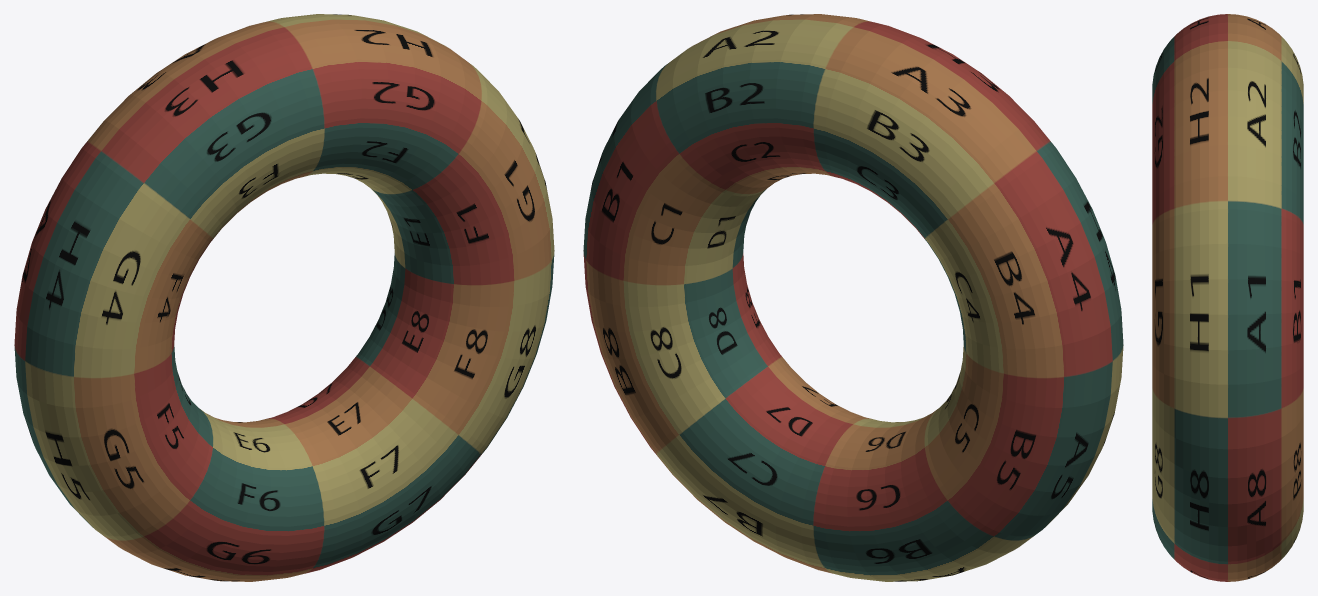
The model's file is texture_torus_R24_r28.glb.
3 views of the same model, side by side, from view 1: azimuth 30°, elevation 25°; view 2: azimuth 150°, elevation 25°; view 3: azimuth 270°, elevation 25° (orthographic). The views are drawn at different scales.
Visible parts, largest first — view 1: world; view 2: world; view 3: world.
Part boxes in pixels (x1,y1,x2,y2): world: (14,14,554,581); world: (583,14,1123,581); world: (1152,14,1303,581).
Size of the model in its own units: 35.47 by 35.4 by 9.45.
Materials: 1 (1 with a texture image).
